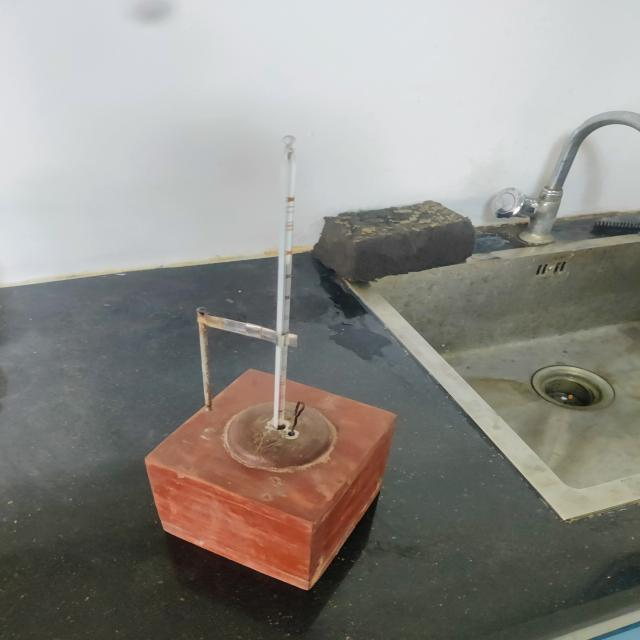Calorimeter: (120, 123, 423, 621)
